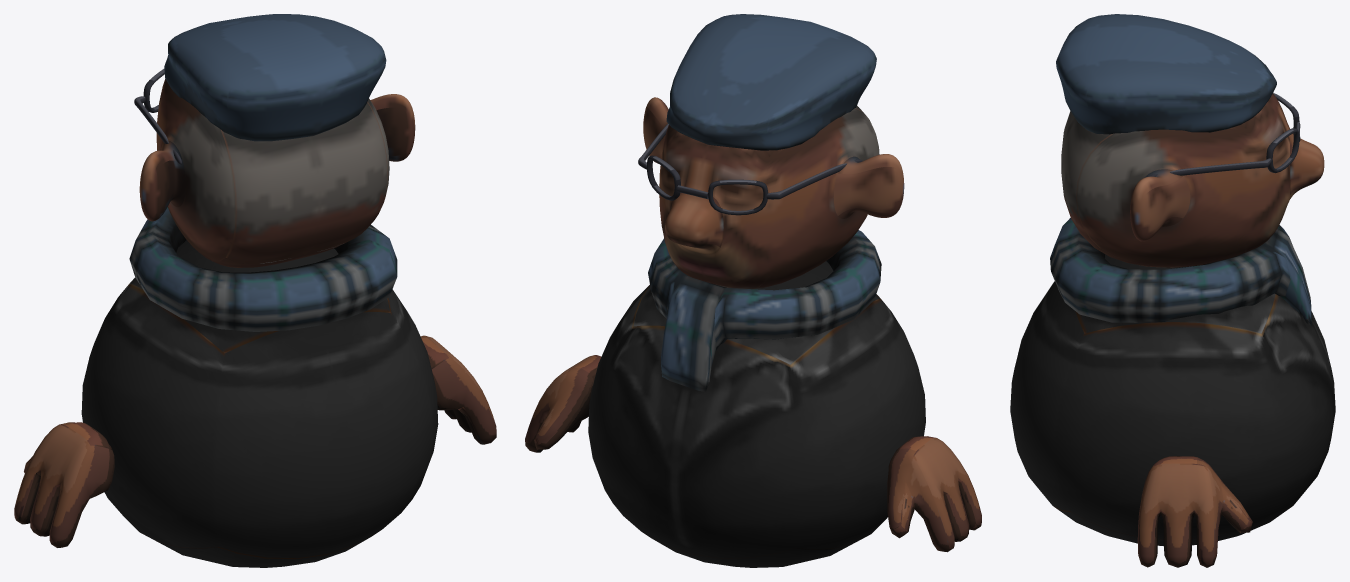
The model's file is SM_Kunde.fbx.
The picture shows the model from 3 angles, left to right: view 1: azimuth 30°, elevation 25°; view 2: azimuth 150°, elevation 25°; view 3: azimuth 270°, elevation 25°; orthographic projection. The views are drawn at different scales.
Parts seen in each view (by area): view 1: Krop, Hoved, Hue, Halstørklæde, VenstreHånd, HøjreHånd, Brilleglas; view 2: Krop, Hoved, Hue, Halstørklæde, VenstreHånd, HøjreHånd, Brilleglas; view 3: Krop, Hoved, Hue, Halstørklæde, HøjreHånd, Brilleglas.
Boxes of the visible parts, x1=… form: Krop: x1=81, y1=240, x2=438, y2=567; Hoved: x1=139, y1=79, x2=415, y2=267; Hue: x1=164, y1=14, x2=386, y2=141; Halstørklæde: x1=129, y1=207, x2=397, y2=331; VenstreHånd: x1=14, y1=422, x2=114, y2=547; HøjreHånd: x1=420, y1=335, x2=496, y2=444; Brilleglas: x1=134, y1=69, x2=181, y2=164; Krop: x1=588, y1=261, x2=925, y2=567; Hoved: x1=643, y1=97, x2=904, y2=289; Hue: x1=666, y1=14, x2=876, y2=150; Halstørklæde: x1=648, y1=230, x2=881, y2=391; VenstreHånd: x1=887, y1=436, x2=981, y2=552; HøjreHånd: x1=525, y1=355, x2=600, y2=452; Brilleglas: x1=638, y1=123, x2=862, y2=215; Krop: x1=1010, y1=254, x2=1335, y2=546; Hoved: x1=1061, y1=93, x2=1324, y2=267; Hue: x1=1056, y1=14, x2=1276, y2=134; Halstørklæde: x1=1050, y1=217, x2=1311, y2=325; HøjreHånd: x1=1137, y1=456, x2=1252, y2=567; Brilleglas: x1=1147, y1=93, x2=1300, y2=176.
Bounding box in the file's own units: 191 × 210 × 128.
